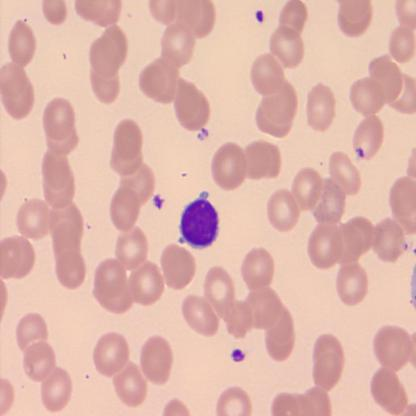Lymphocyte: (178, 191, 222, 250)
